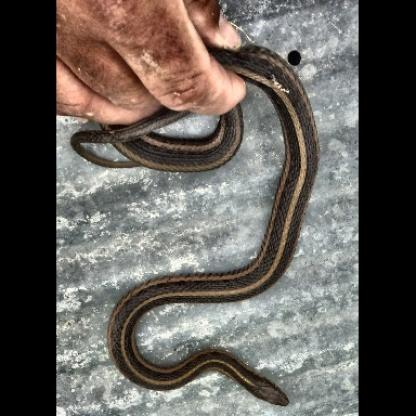Snake: (67, 9, 333, 411)
